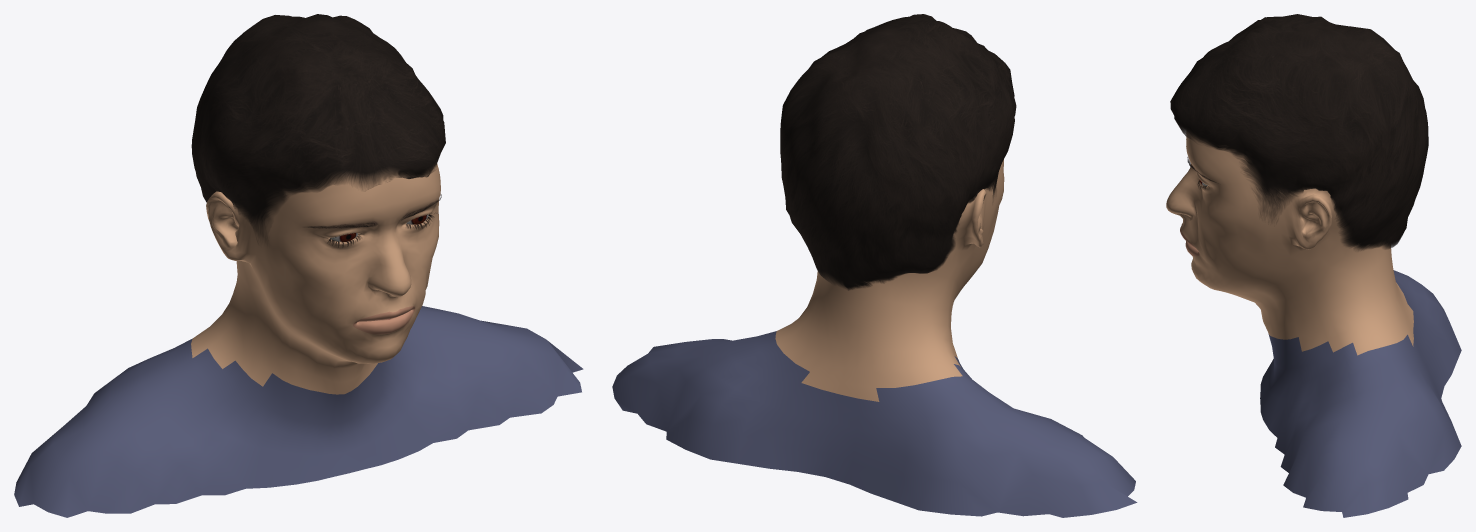
File: man-04.glb
3 renders of one model, left to right at view 1: azimuth 30°, elevation 25°; view 2: azimuth 150°, elevation 25°; view 3: azimuth 270°, elevation 25°, orthographic. The views are drawn at different scales.
Parts seen in each view (by area): view 1: mpfb-face, mpfb-face.short02; view 2: mpfb-face, mpfb-face.short02; view 3: mpfb-face, mpfb-face.short02.
Part boxes in pixels (<box>): mpfb-face: <box>14,163,583,517</box>; mpfb-face.short02: <box>191,14,445,241</box>; mpfb-face: <box>612,159,1137,517</box>; mpfb-face.short02: <box>780,14,1016,290</box>; mpfb-face: <box>1166,132,1461,517</box>; mpfb-face.short02: <box>1170,14,1428,250</box>.
Size of the model in its own units: 0.4789 by 0.3458 by 0.2497.
Materials: 9 (6 with a texture image).
